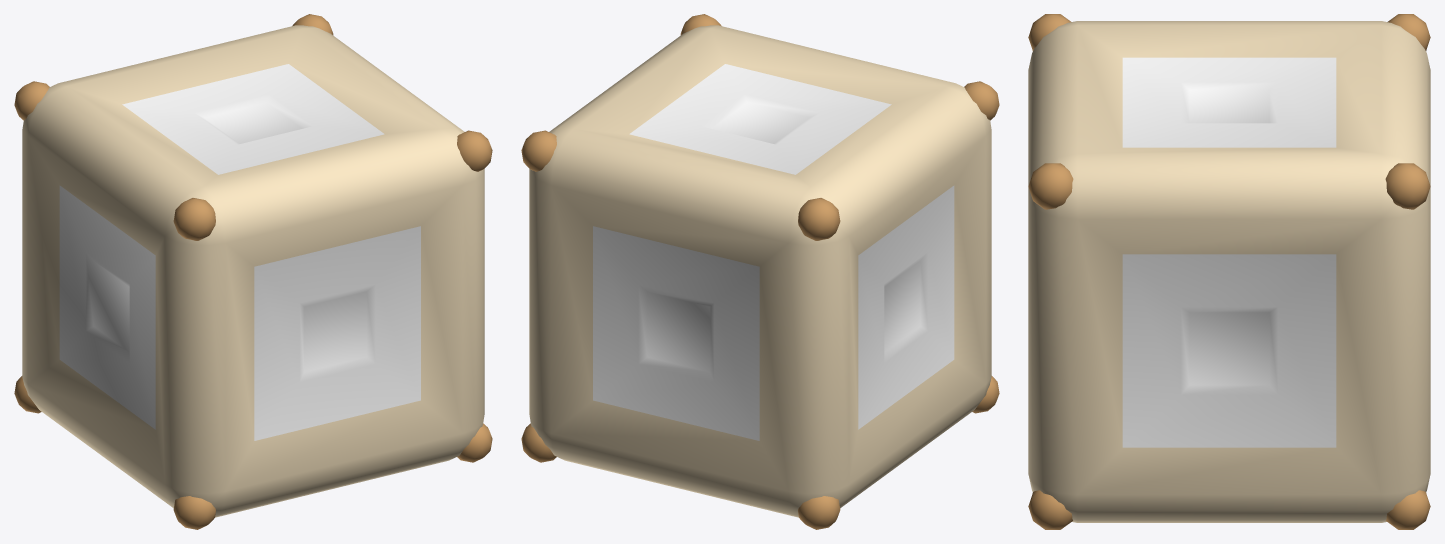
File: ability_block.glb
The picture shows the model from 3 angles, left to right: view 1: azimuth 30°, elevation 25°; view 2: azimuth 150°, elevation 25°; view 3: azimuth 270°, elevation 25°; orthographic projection. The views are drawn at different scales.
Parts seen in each view (by area): view 1: AbilityBlock; view 2: AbilityBlock; view 3: AbilityBlock.
Boxes of the visible parts, <box> form: AbilityBlock: <box>14,14,492,529</box>; AbilityBlock: <box>521,14,999,529</box>; AbilityBlock: <box>1028,14,1430,529</box>.
Size of the model in its own units: 0.98 by 0.98 by 0.98.
